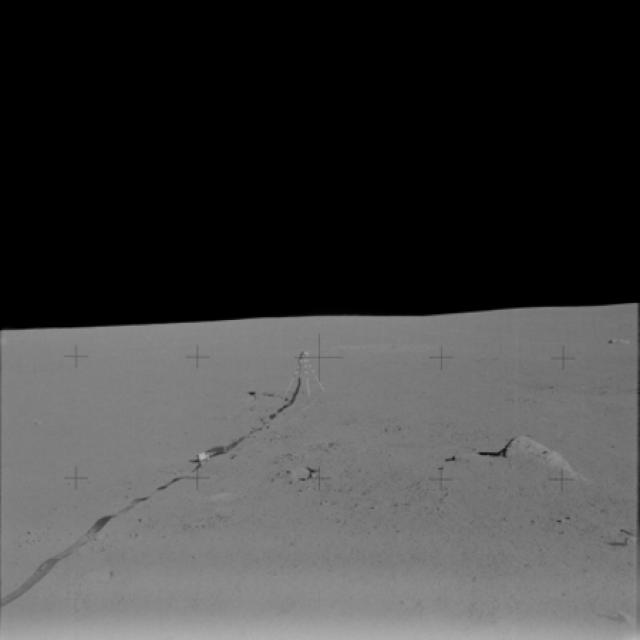crater: (199, 480, 250, 513)
rock: (486, 424, 581, 485), (596, 590, 638, 639), (614, 526, 638, 562)
